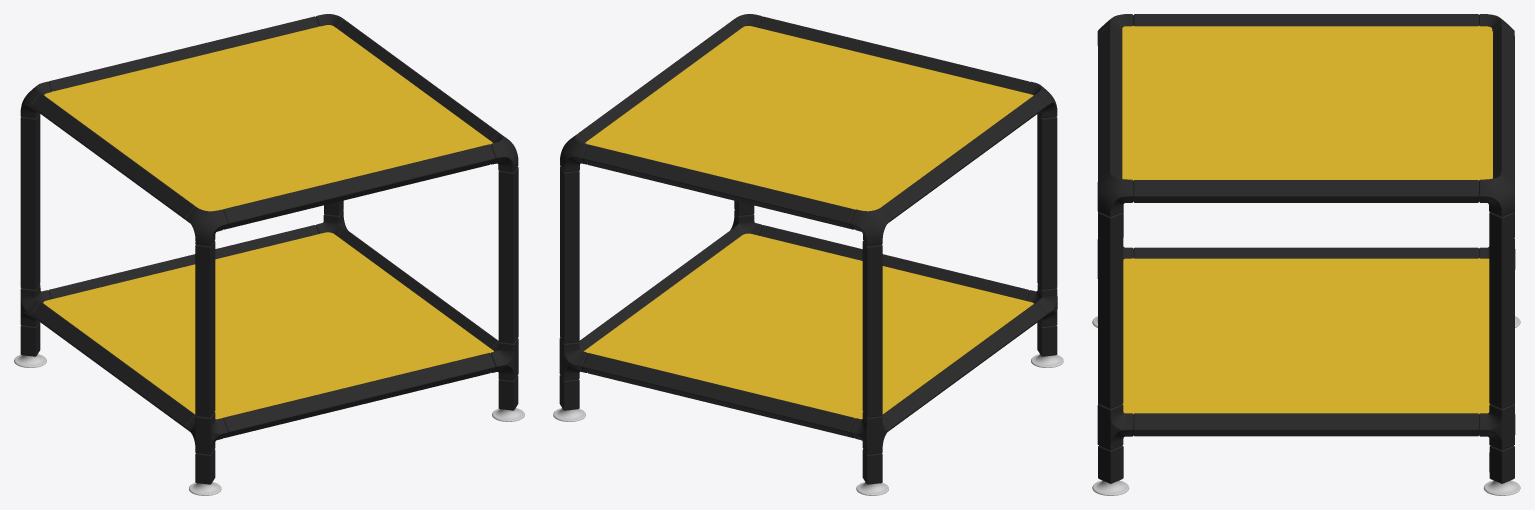
3 views of the same model, side by side, from view 1: azimuth 30°, elevation 25°; view 2: azimuth 150°, elevation 25°; view 3: azimuth 270°, elevation 25° (orthographic). The views are drawn at different scales.
Visible parts, largest first — view 1: 374x374x229; view 2: 374x374x229; view 3: 374x374x229.
Boxes of the visible parts, x1,y1,x2,y2 form: 374x374x229: (14, 14, 524, 495); 374x374x229: (553, 14, 1063, 495); 374x374x229: (1092, 14, 1520, 495).
Size of the model in its own units: 0.4639 by 0.3683 by 0.4632.
